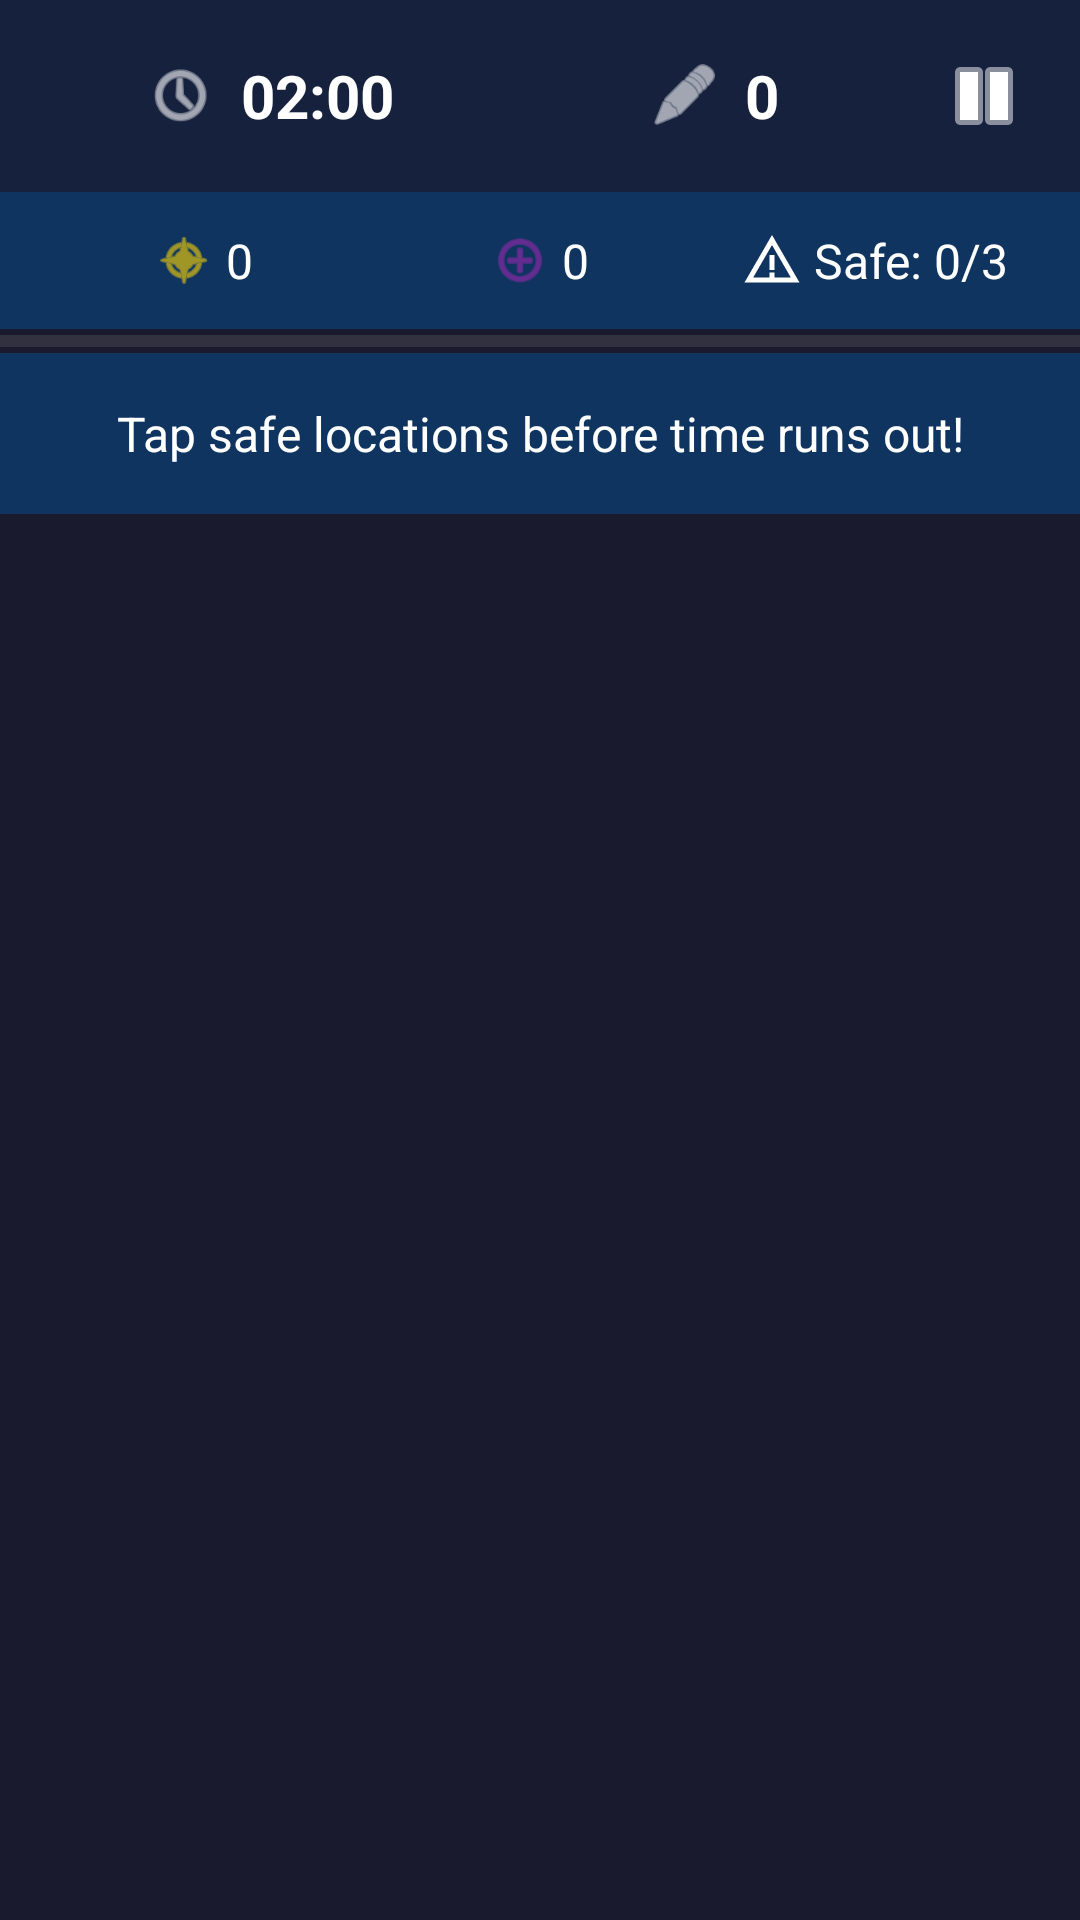

Screen size 1080 × 1920. Icon name, then its center in pixels as (x,y):
add: (520,260)
compass: (183,260)
edit: (684,94)
pause: (984,96)
recent history: (181,95)
